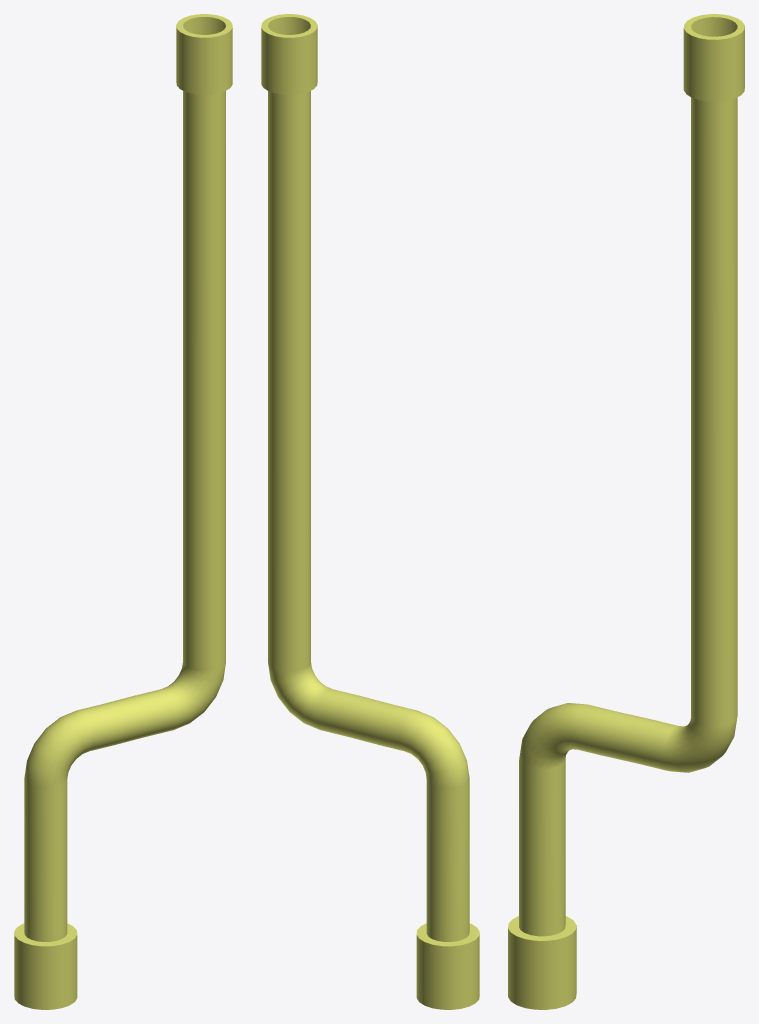
File: Generator_Pipe_Vertical_Curved_3.fbx
3 views of the same model, side by side, from view 1: azimuth 30°, elevation 25°; view 2: azimuth 150°, elevation 25°; view 3: azimuth 330°, elevation 25° (orthographic). The views are drawn at different scales.
Visible parts, largest first — view 1: Pipe_Vertical_Curved_3; view 2: Pipe_Vertical_Curved_3; view 3: Pipe_Vertical_Curved_3.
Boxes of the visible parts, bbox=[...] form: Pipe_Vertical_Curved_3: bbox=[14, 14, 232, 1009]; Pipe_Vertical_Curved_3: bbox=[261, 14, 479, 1009]; Pipe_Vertical_Curved_3: bbox=[508, 14, 744, 1009].
Bounding box in the file's own units: 178 × 753 × 46.5.
